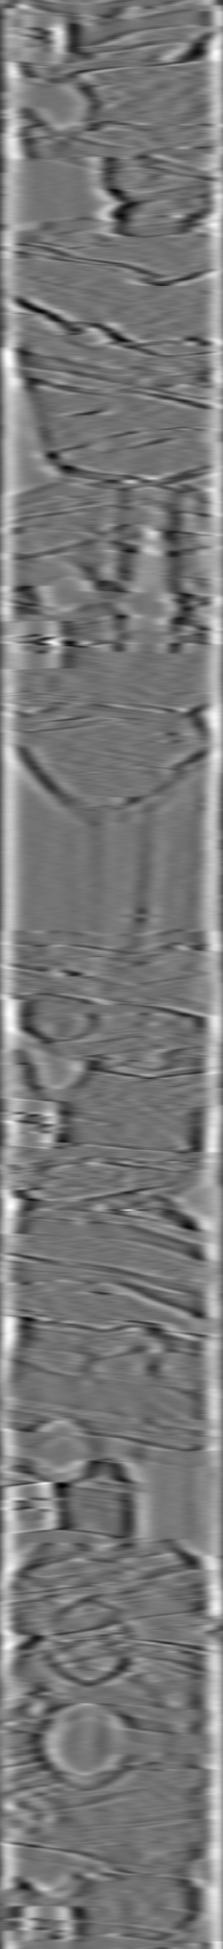hplug: (17, 1415, 96, 1492), (27, 65, 100, 143), (27, 553, 103, 623), (22, 1033, 93, 1105), (20, 1874, 92, 1905)
scal: (30, 1700, 136, 1795), (40, 1598, 138, 1689)
vplug: (115, 485, 186, 658)
